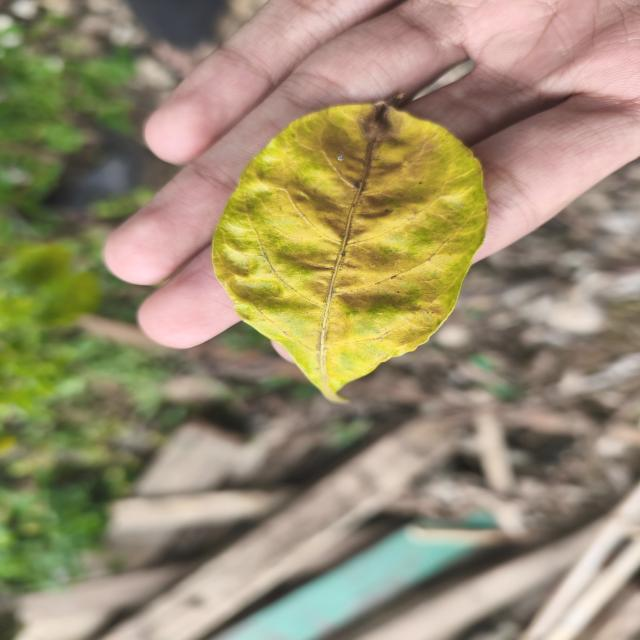Virus Kuning: (210, 96, 490, 404)
